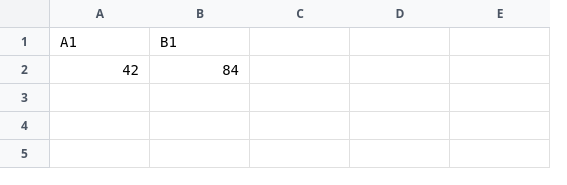
Test: Grid Component › calls onCellChange when editing is committed
Later steps or results of the test are not shown.
Note: Double-click to edit (triggers onStartEdit → FSM enters EDIT mode)
Double-click the element showing "A1" at point(100, 42), box [50,28,150,56]
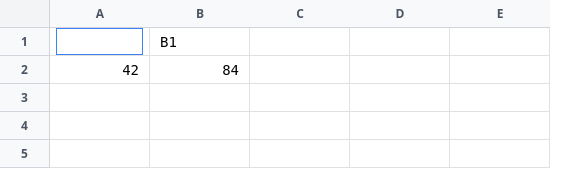
Expected: the field is shown, [56,28,143,54]
